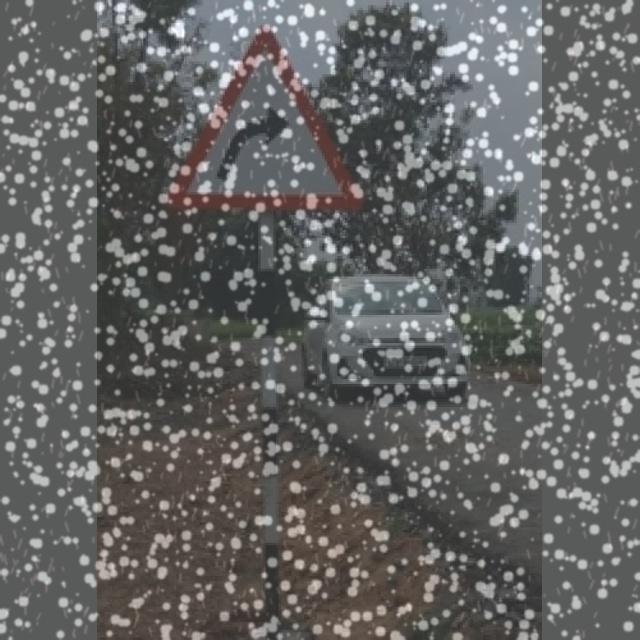Right_Hand_Curve: (170, 28, 360, 208)
